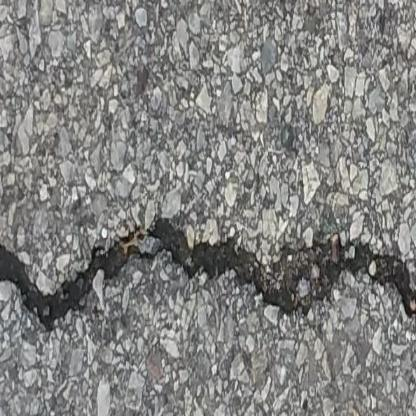Cracks: (0, 218, 416, 330)
